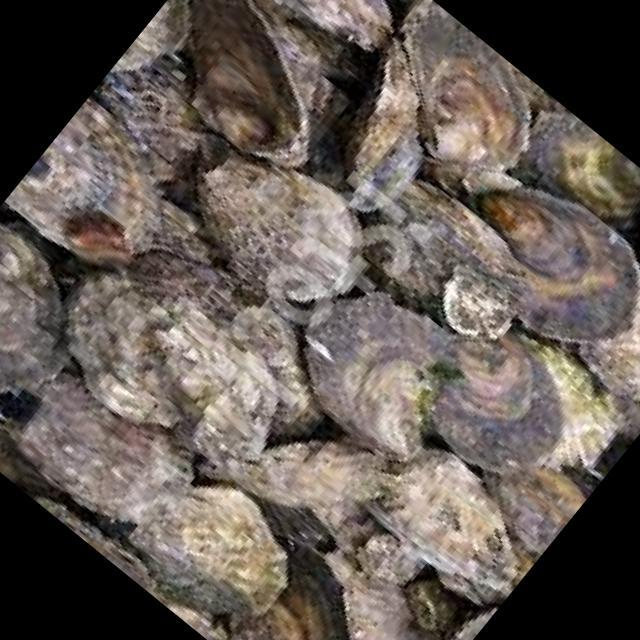Oyster- Indeterminate: (458, 188, 639, 348), (303, 294, 460, 461), (403, 0, 534, 200), (4, 97, 158, 267), (197, 156, 367, 308), (29, 378, 190, 518), (70, 275, 213, 432), (134, 489, 287, 631), (169, 312, 285, 490), (373, 184, 527, 317), (192, 0, 308, 168), (439, 336, 567, 475), (0, 222, 78, 416), (106, 63, 229, 179), (533, 103, 640, 234), (487, 469, 602, 557), (261, 442, 394, 509), (261, 0, 424, 51), (324, 550, 411, 640), (350, 530, 424, 580), (403, 574, 451, 634)
Oyster-Closed: (371, 452, 513, 600), (341, 20, 420, 203)
